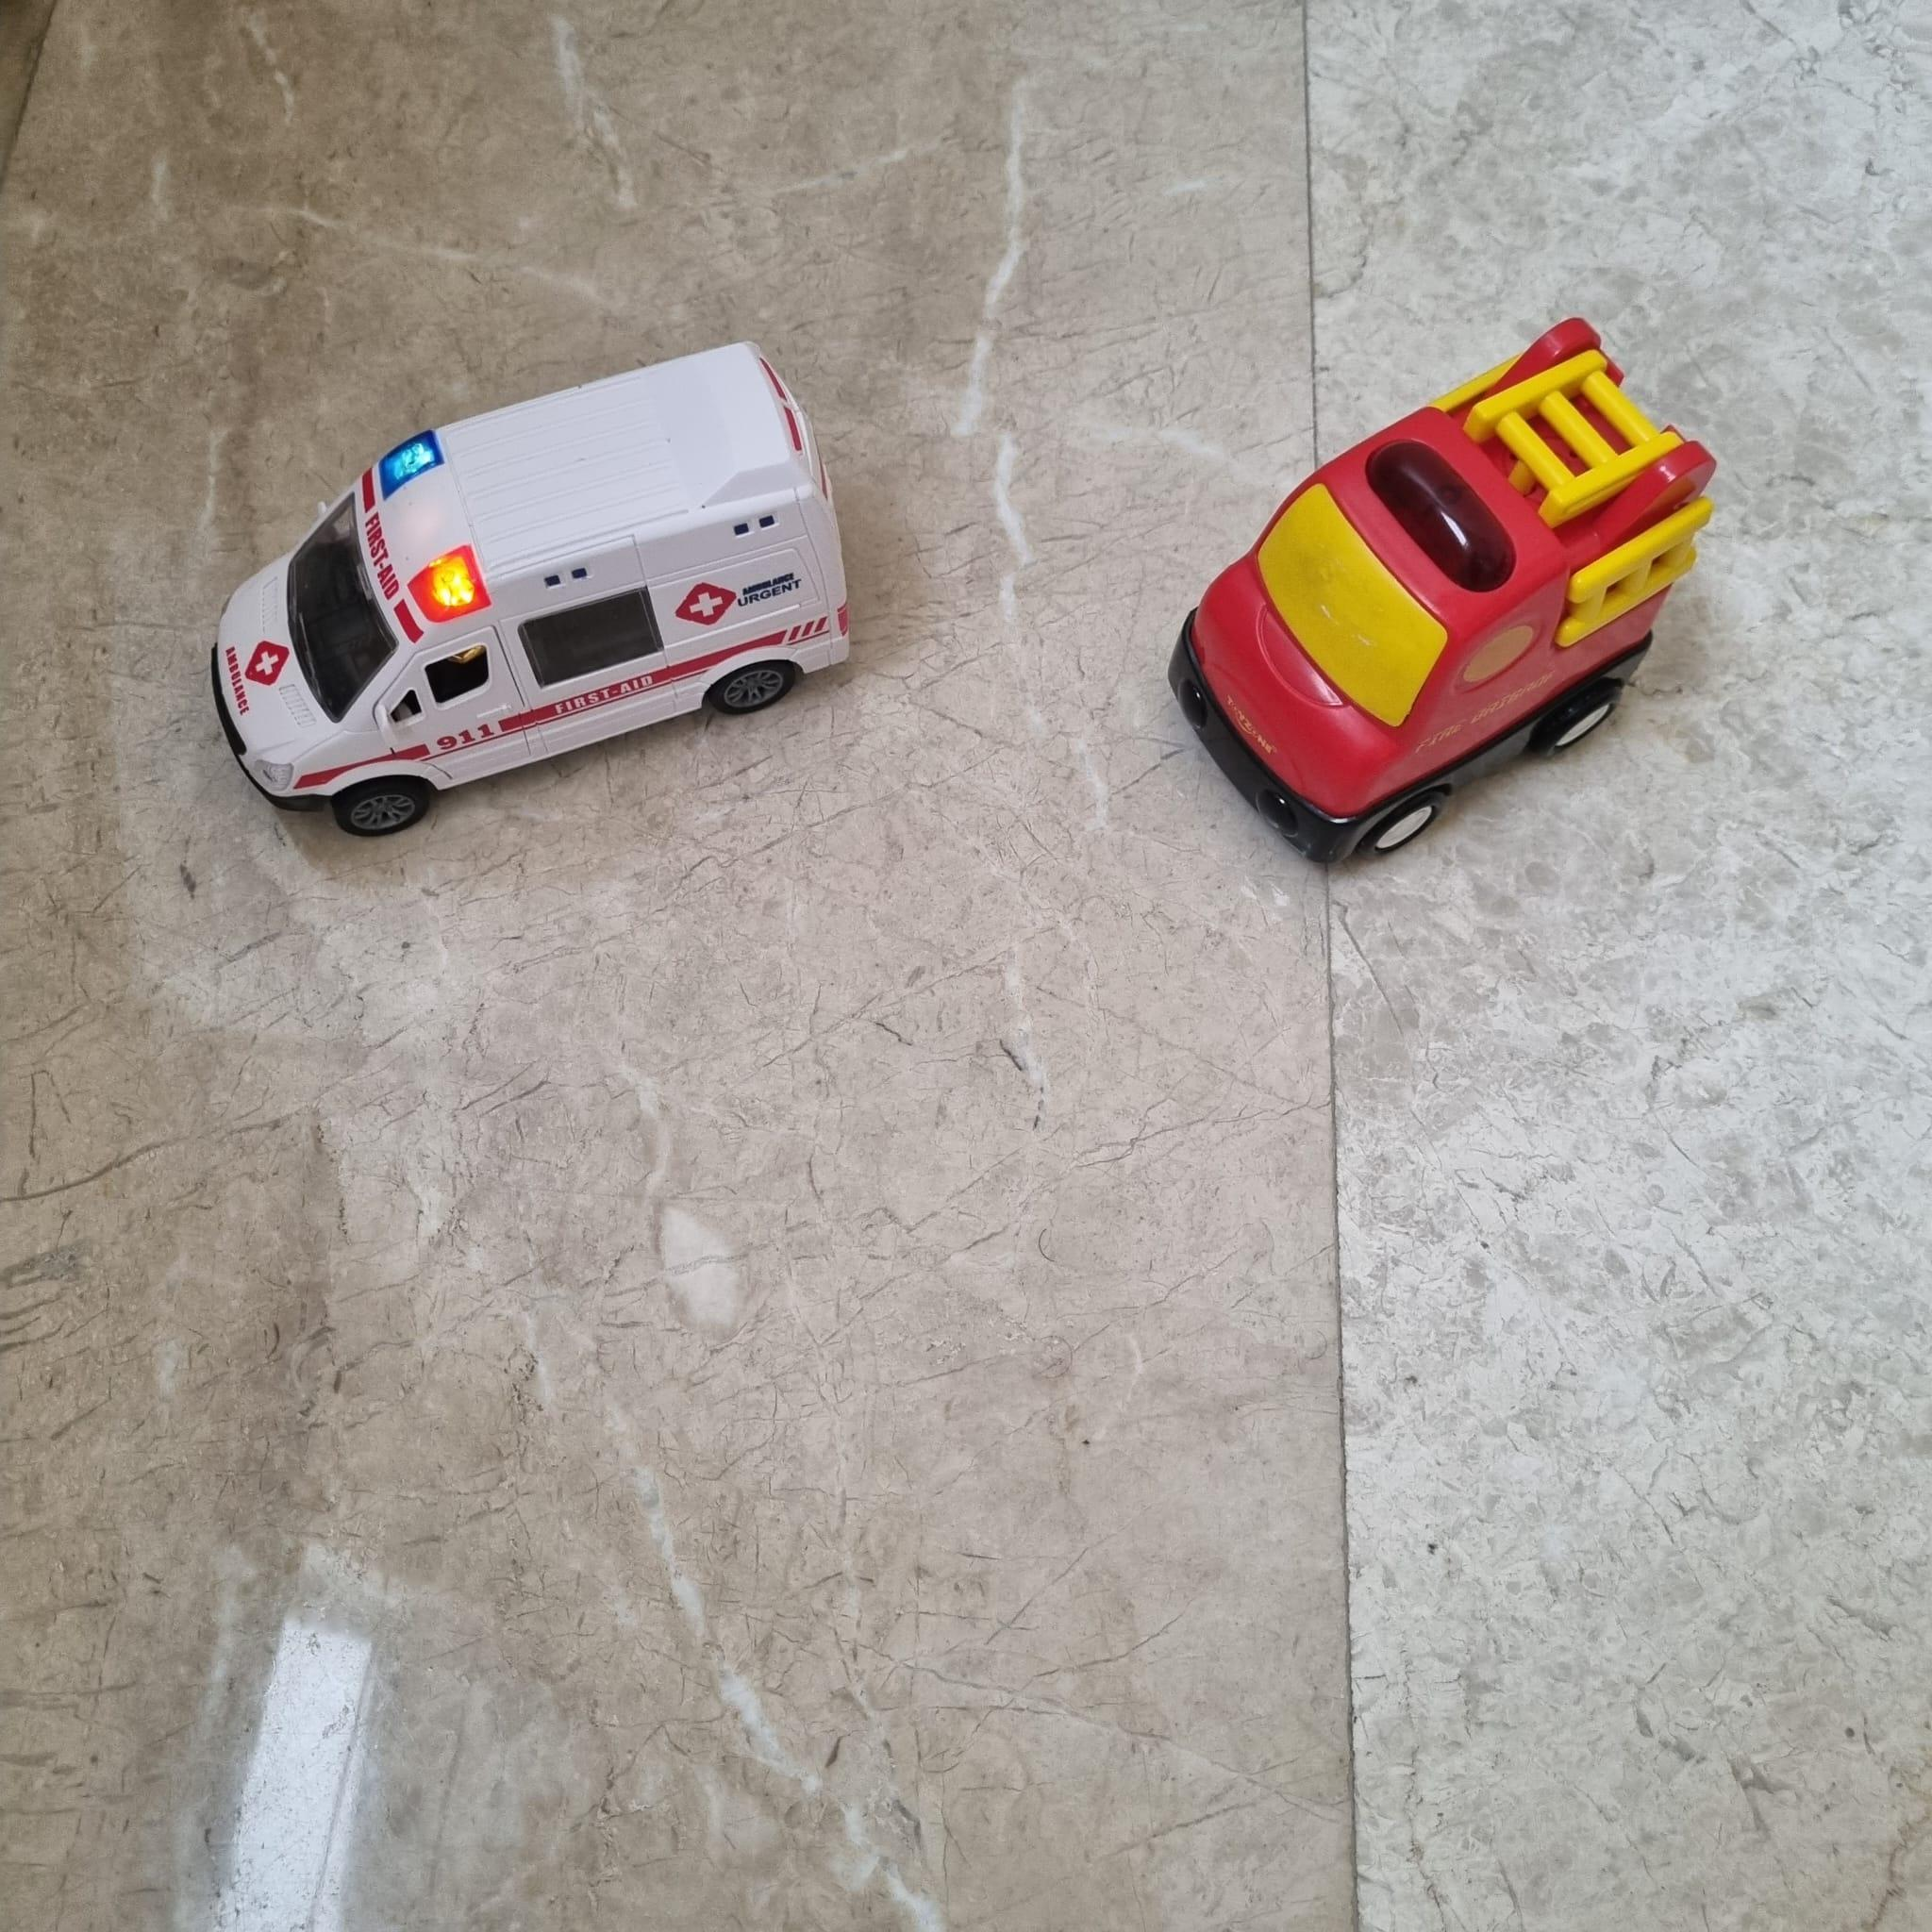ambulance_on: (209, 341, 855, 840)
firetruck_off: (1168, 318, 1711, 865)
